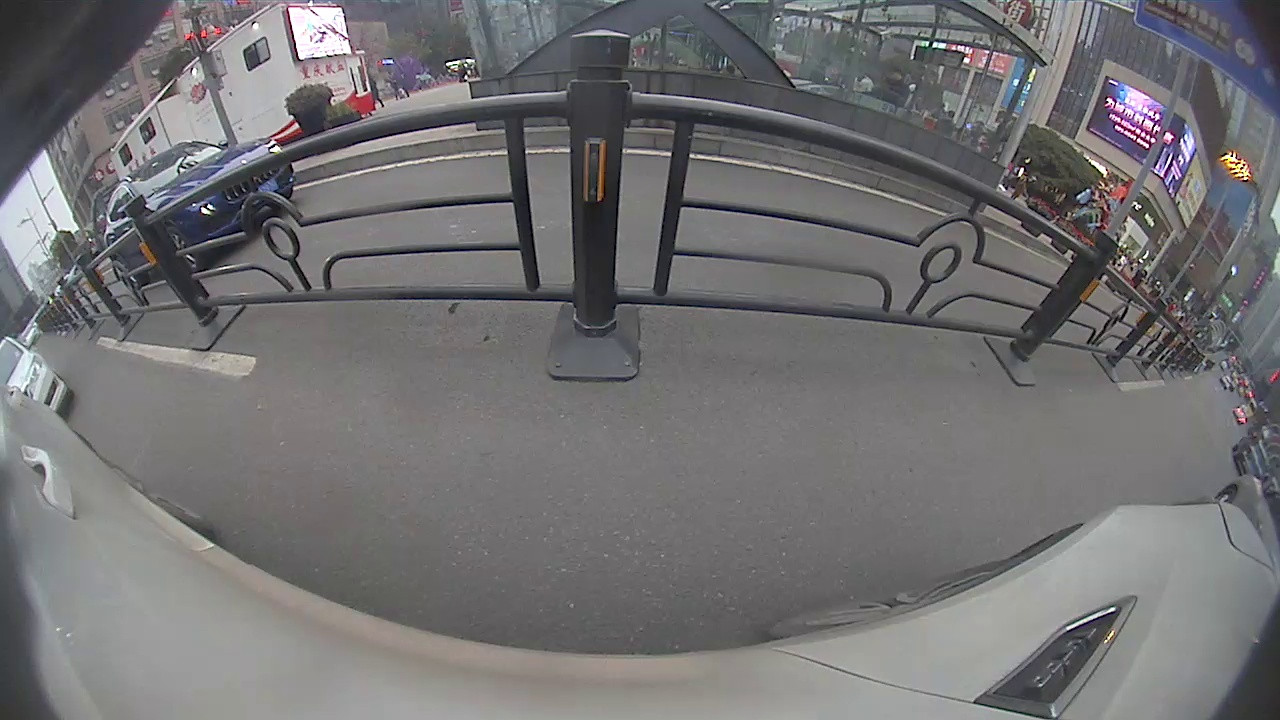car: (103, 138, 294, 293)
front: (162, 225, 202, 275)
